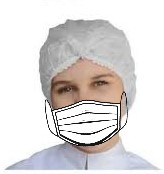with_mask_and_cap: (38, 19, 129, 145)
